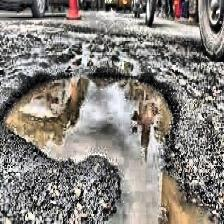pothole: (0, 68, 224, 224)
